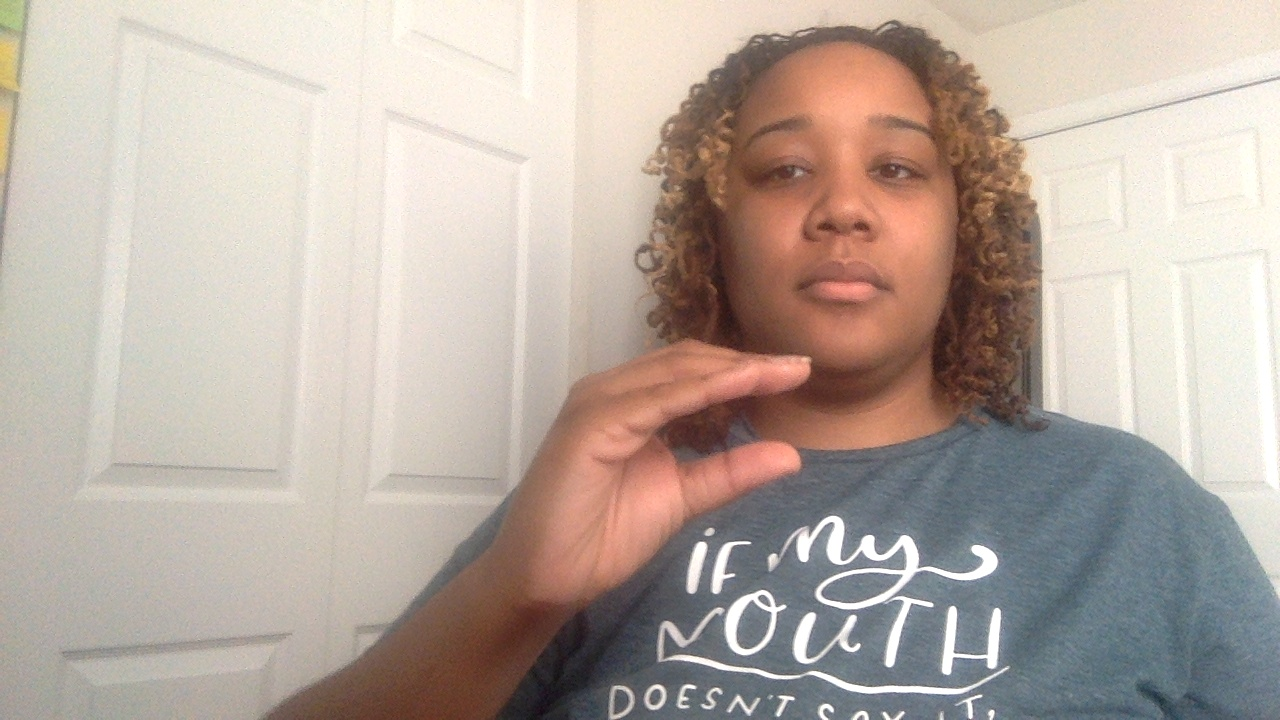no: (426, 331, 826, 637)
